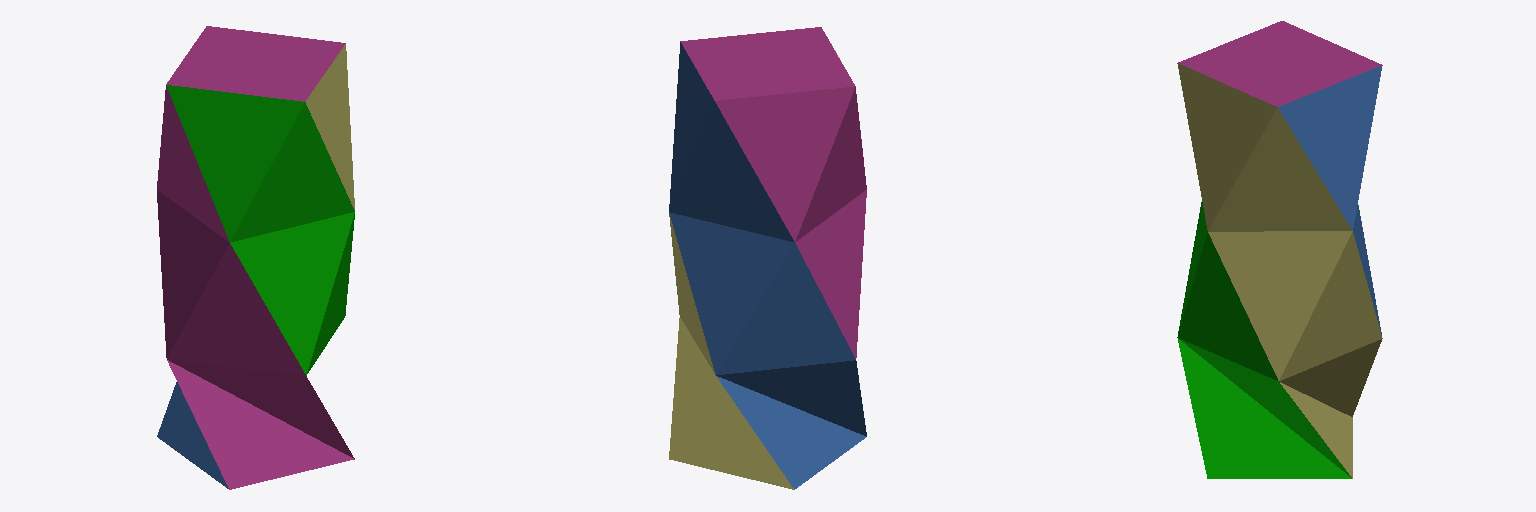
File: windingHashira.obj
The picture shows the model from 3 angles: view 1: azimuth 30°, elevation 25°; view 2: azimuth 150°, elevation 25°; view 3: azimuth 270°, elevation 25°; orthographic projection.
Visible parts, largest first — view 1: Cube; view 2: Cube; view 3: Cube.
Boxes of the visible parts, x1,y1,x2,y2 form: Cube: [157, 26, 354, 489]; Cube: [669, 27, 866, 489]; Cube: [1177, 21, 1382, 478].
Bounding box in the file's own units: 2.83 × 5.84 × 2.83.